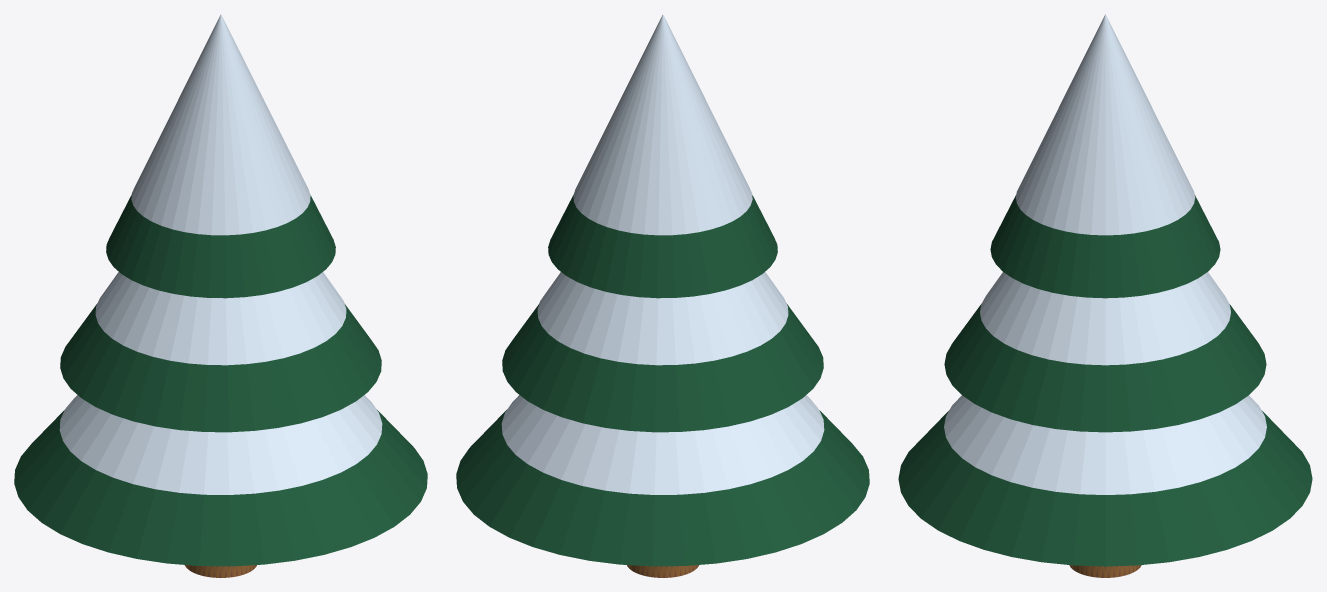
The model's file is tree.obj.
3 renders of one model, left to right at view 1: azimuth 30°, elevation 25°; view 2: azimuth 150°, elevation 25°; view 3: azimuth 270°, elevation 25°, orthographic.
Size of the model in its own units: 1.8 by 2.63 by 1.8.
3 materials, 1 textured.
